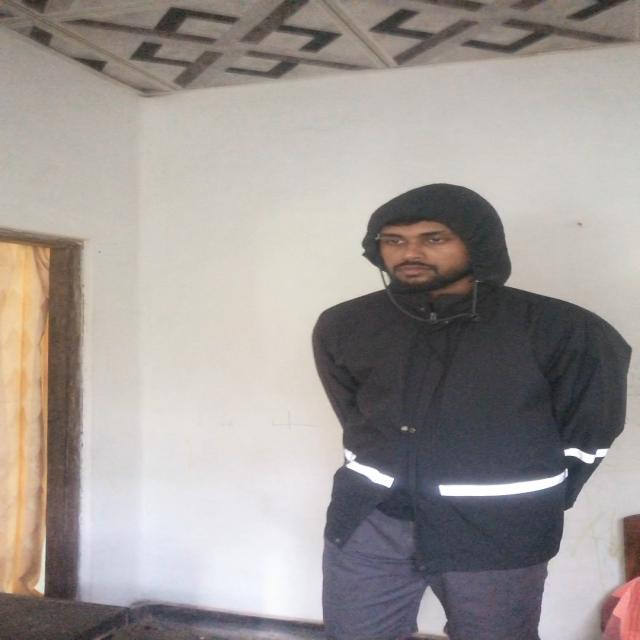Jacket_Wearer: (286, 180, 640, 547)
